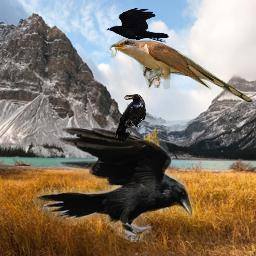Crow: (33, 125, 194, 242), (106, 8, 169, 43), (115, 94, 146, 142)
Cuckoo: (107, 38, 253, 103)
